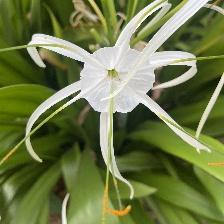spider lily: (26, 1, 216, 199)
